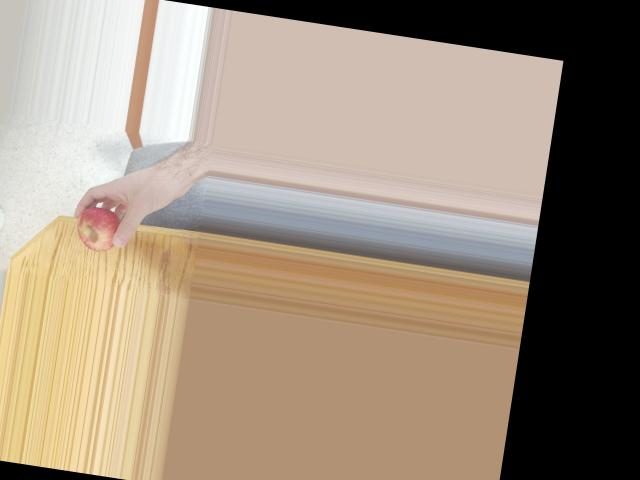apple: (70, 202, 130, 254)
